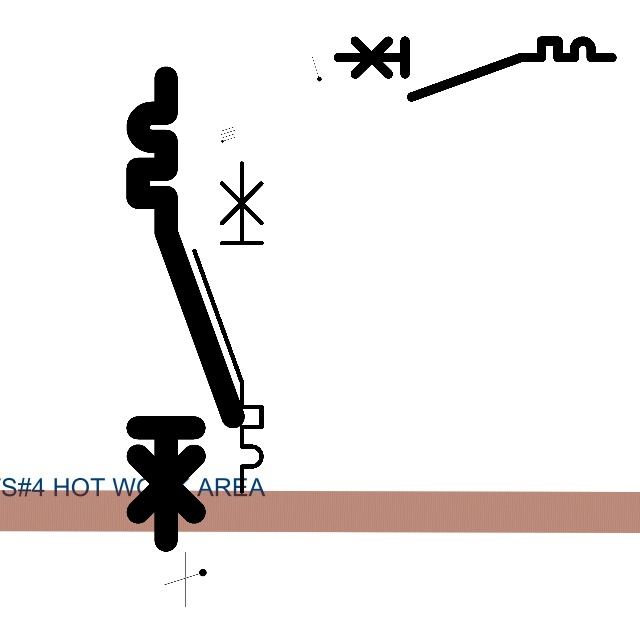interruptor_termomagnetico: (126, 66, 245, 552), (186, 155, 270, 500), (331, 34, 619, 104)
